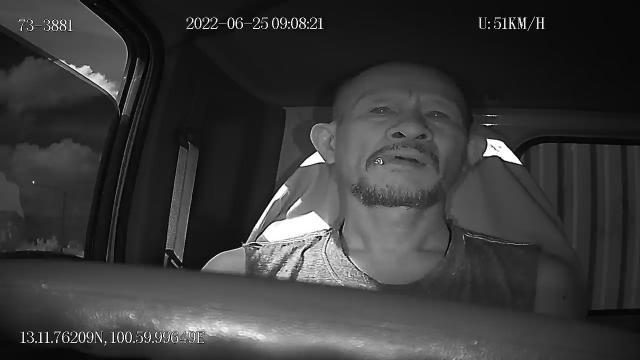SafeDriving: (362, 94, 402, 124), (418, 99, 454, 128)
Smoking: (373, 155, 397, 165)
